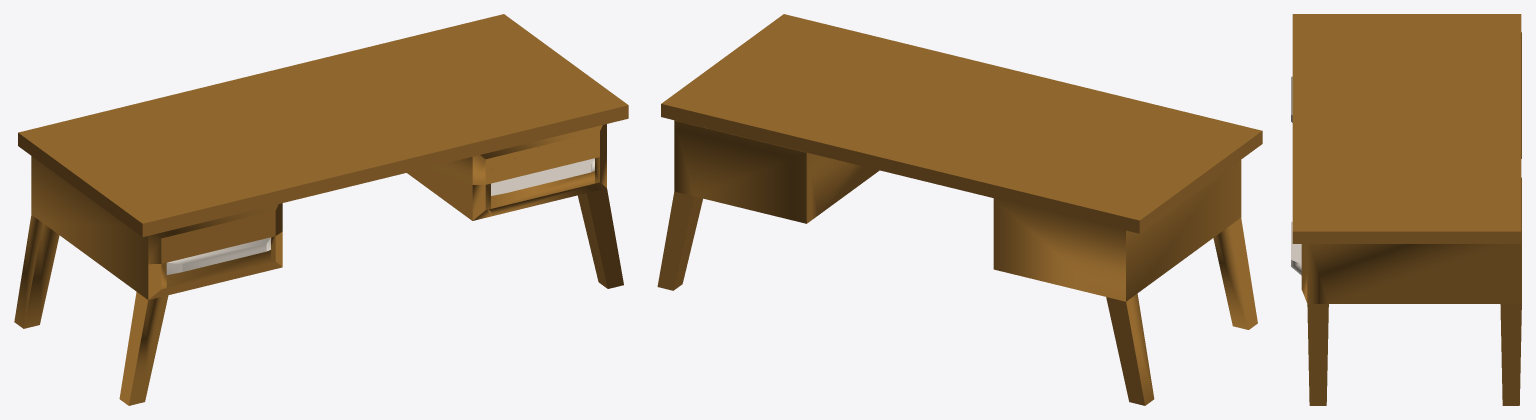
File: desk_v01.fbx
The picture shows the model from 3 angles, left to right: view 1: azimuth 30°, elevation 25°; view 2: azimuth 150°, elevation 25°; view 3: azimuth 270°, elevation 25°; orthographic projection. The views are drawn at different scales.
Visible parts, largest first — view 1: Desk_top, Cabinet_and_Legs; view 2: Desk_top, Cabinet_and_Legs; view 3: Desk_top, Cabinet_and_Legs.
Part boxes in pixels (box(x1,y1,x2,y2)): Desk_top: box(18, 14, 628, 236); Cabinet_and_Legs: box(14, 124, 623, 405); Desk_top: box(661, 14, 1262, 233); Cabinet_and_Legs: box(657, 120, 1257, 405); Desk_top: box(1292, 14, 1521, 243); Cabinet_and_Legs: box(1291, 32, 1521, 405).
Size of the model in its own units: 244 by 88.55 by 108.
